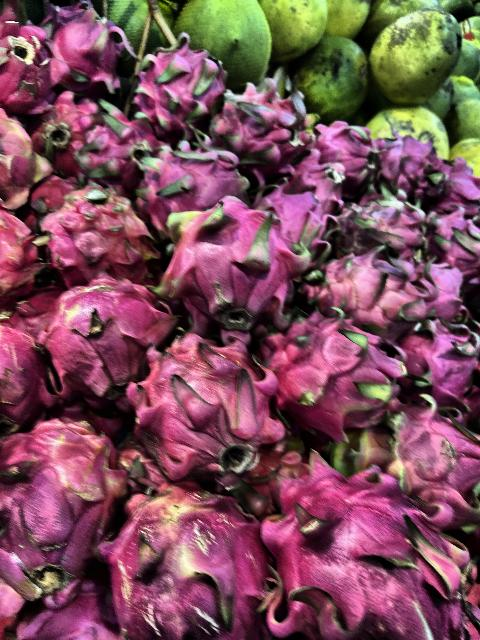buah-naga-belum-matang: (113, 476, 275, 640), (324, 384, 480, 510)
buah-naga-matang: (274, 458, 464, 640), (0, 426, 118, 610), (130, 336, 282, 478), (159, 203, 301, 324), (40, 270, 166, 396), (274, 306, 394, 426), (142, 133, 260, 229), (51, 178, 150, 288), (312, 240, 421, 322), (135, 29, 219, 132), (221, 66, 308, 162), (46, 1, 126, 99), (1, 15, 57, 119), (82, 107, 152, 187), (381, 118, 445, 205), (316, 110, 382, 194), (356, 182, 424, 258), (428, 202, 480, 270), (46, 101, 92, 171)
